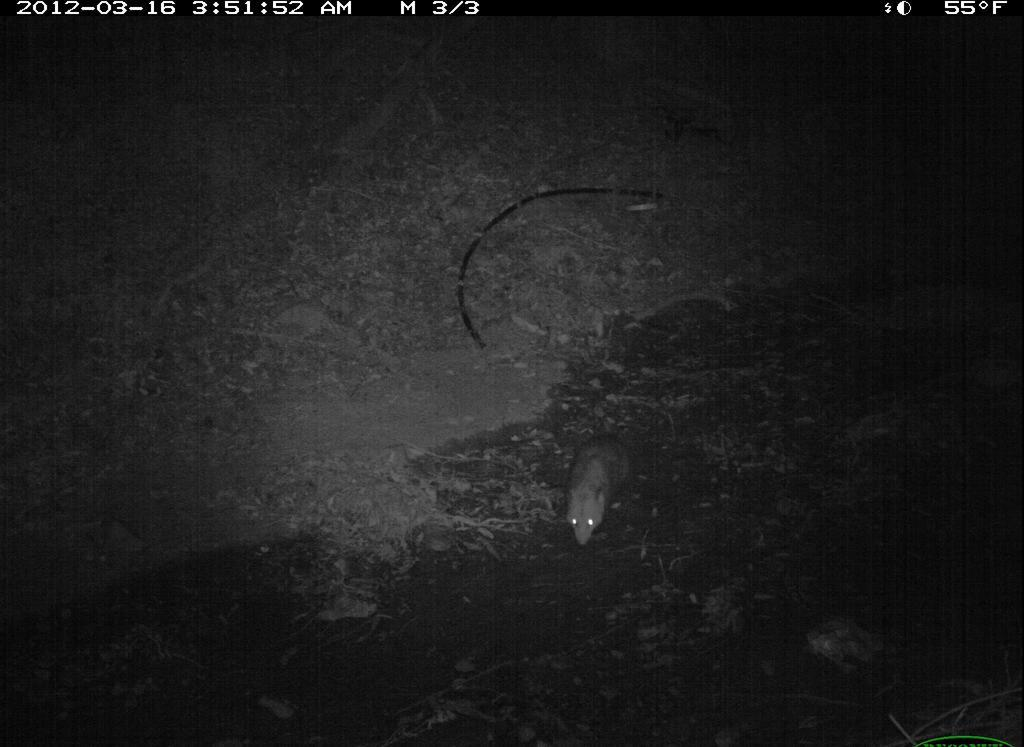opossum: (520, 423, 655, 553)
